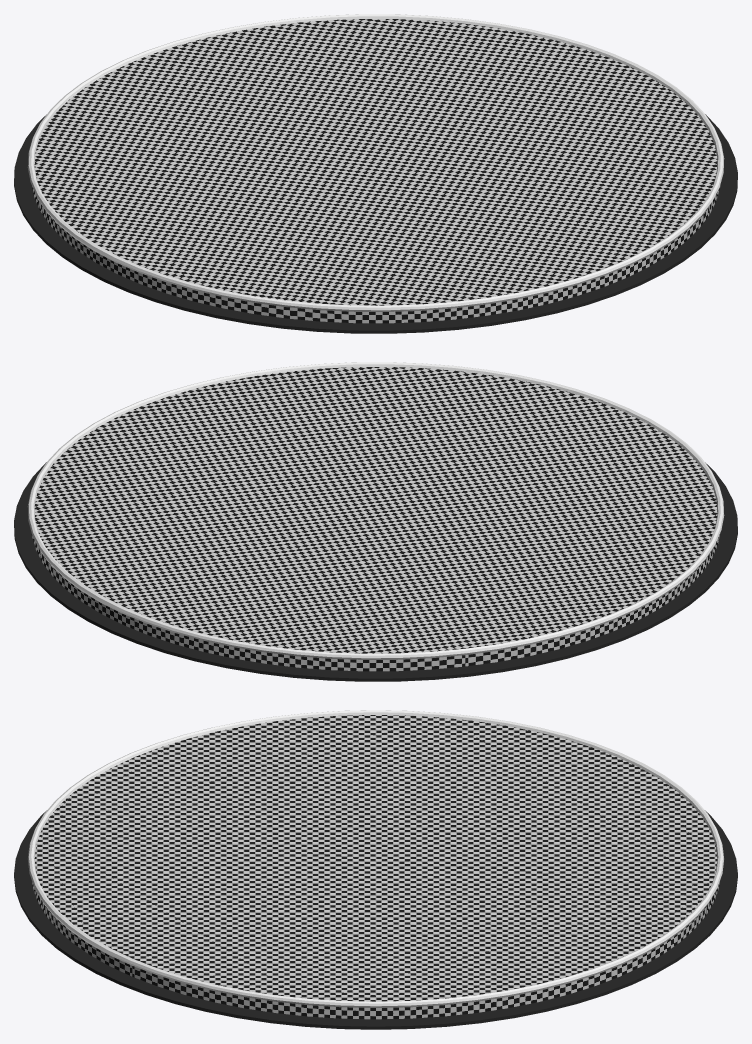
File: g_podium.fbx
3 views of the same model, one above another, from view 1: azimuth 30°, elevation 25°; view 2: azimuth 150°, elevation 25°; view 3: azimuth 270°, elevation 25° (orthographic).
Parts seen in each view (by area): view 1: g_podium_checker, g_podium_black, g_podium_chrome; view 2: g_podium_checker, g_podium_black, g_podium_chrome; view 3: g_podium_checker, g_podium_black, g_podium_chrome.
Boxes of the visible parts, x1,y1,x2,y2 form: g_podium_checker: (32,19,720,323); g_podium_black: (14,114,737,333); g_podium_chrome: (27,14,724,311); g_podium_checker: (31,367,719,671); g_podium_black: (14,462,737,681); g_podium_chrome: (27,362,724,659); g_podium_checker: (32,715,719,1019); g_podium_black: (14,810,737,1029); g_podium_chrome: (28,710,723,1007).
Bounding box in the file's own units: 6.3 × 0.2 × 6.3.
Materials: 3 (1 with a texture image).
